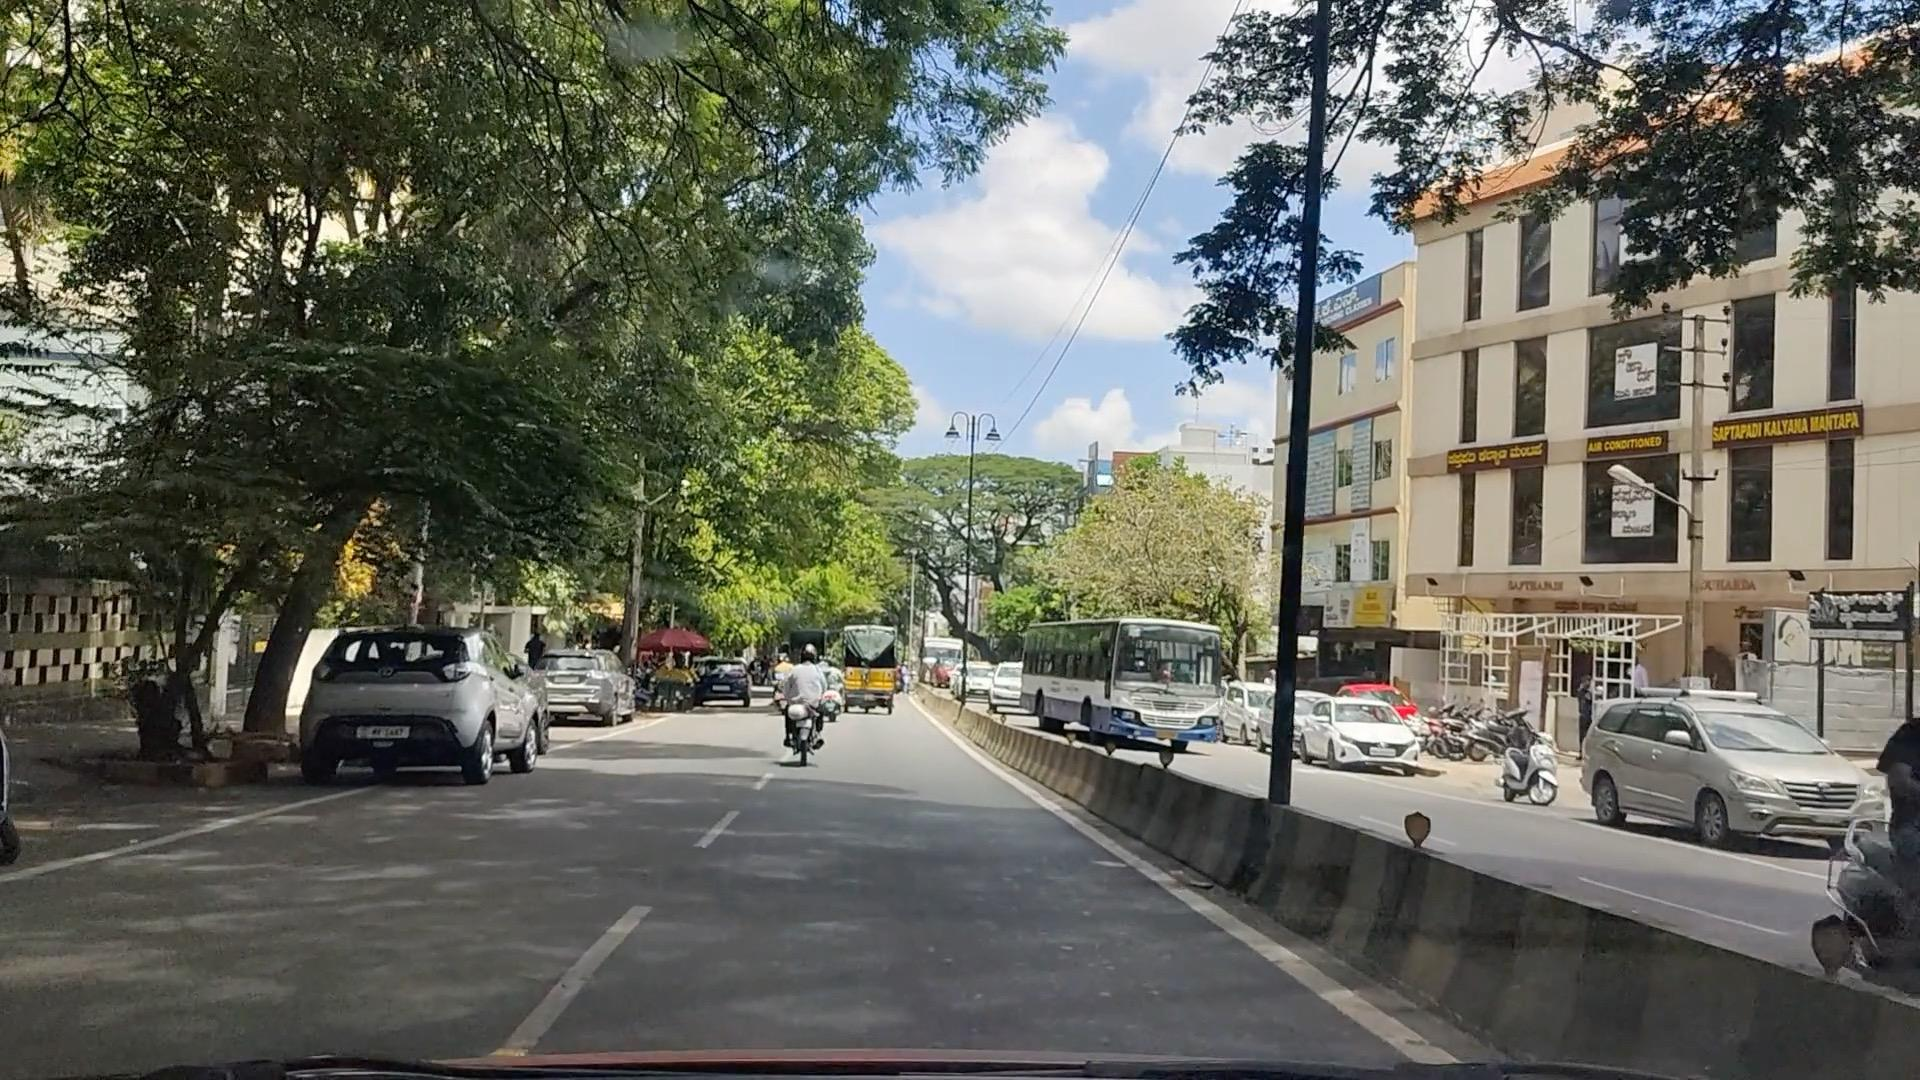LMV: (306, 613, 517, 766), (760, 630, 836, 764)
